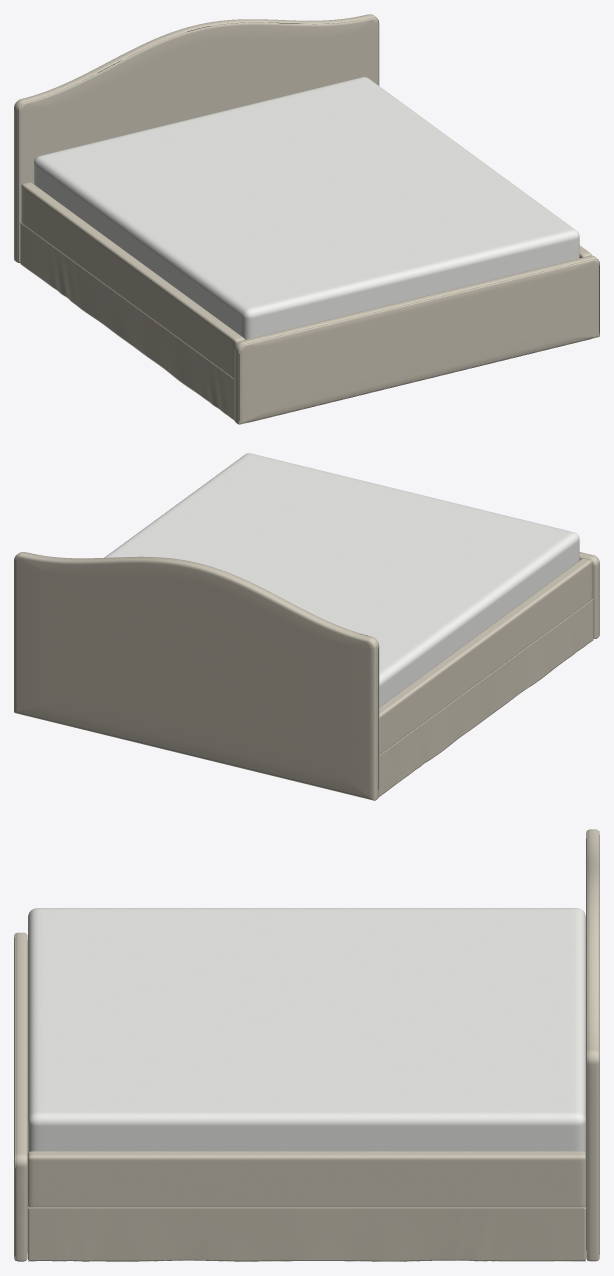
File: bed.glb
3 views of the same model, one above another, from view 1: azimuth 30°, elevation 25°; view 2: azimuth 150°, elevation 25°; view 3: azimuth 270°, elevation 25° (orthographic). The views are drawn at different scales.
Visible parts, largest first — view 1: BED_White_mattress_GLB, BED_Low_footboard_GLB, BED_Crowned_headboard_GLB, BED_Left_padded_structural_side_rail_GLB, BED_Left_hanging_fabric_skirt_GLB, BED_Low_footboard_front_piping_GLB, BED_Crowned_headboard_front_piping_GLB; view 2: BED_Crowned_headboard_GLB, BED_White_mattress_GLB, BED_Left_padded_structural_side_rail_GLB, BED_Left_hanging_fabric_skirt_GLB, BED_Low_footboard_GLB, BED_Crowned_headboard_front_piping_GLB; view 3: BED_White_mattress_GLB, BED_Right_padded_structural_side_rail_GLB, BED_Right_hanging_fabric_skirt_GLB, BED_Crowned_headboard_GLB, BED_Low_footboard_GLB.
Part boxes in pixels (x1=…): BED_White_mattress_GLB: x1=34, y1=77, x2=579, y2=339; BED_Low_footboard_GLB: x1=234, y1=255, x2=599, y2=424; BED_Crowned_headboard_GLB: x1=14, y1=14, x2=378, y2=262; BED_Left_padded_structural_side_rail_GLB: x1=21, y1=182, x2=244, y2=378; BED_Left_hanging_fabric_skirt_GLB: x1=20, y1=223, x2=234, y2=420; BED_Low_footboard_front_piping_GLB: x1=238, y1=258, x2=599, y2=424; BED_Crowned_headboard_front_piping_GLB: x1=18, y1=17, x2=379, y2=262; BED_Crowned_headboard_GLB: x1=14, y1=552, x2=378, y2=800; BED_White_mattress_GLB: x1=104, y1=453, x2=579, y2=706; BED_Left_padded_structural_side_rail_GLB: x1=379, y1=558, x2=592, y2=754; BED_Left_hanging_fabric_skirt_GLB: x1=379, y1=599, x2=593, y2=796; BED_Low_footboard_GLB: x1=579, y1=552, x2=599, y2=638; BED_Crowned_headboard_front_piping_GLB: x1=24, y1=552, x2=379, y2=797; BED_White_mattress_GLB: x1=28, y1=908, x2=585, y2=1152; BED_Right_padded_structural_side_rail_GLB: x1=28, y1=1151, x2=585, y2=1207; BED_Right_hanging_fabric_skirt_GLB: x1=28, y1=1207, x2=585, y2=1261; BED_Crowned_headboard_GLB: x1=586, y1=829, x2=599, y2=1261; BED_Low_footboard_GLB: x1=14, y1=932, x2=27, y2=1261.
Bounding box in the file's own units: 1.94 × 1 × 2.1.
26 materials, 13 textured.
